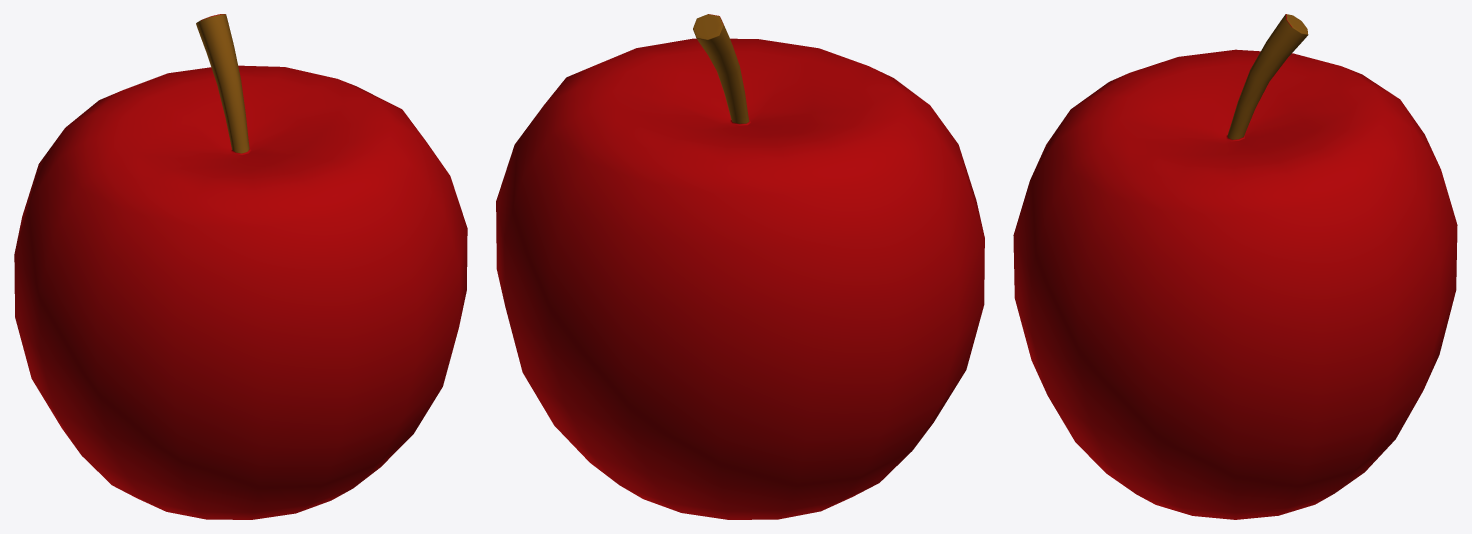
The model's file is Apple.glb.
3 renders of one model, left to right at view 1: azimuth 30°, elevation 25°; view 2: azimuth 150°, elevation 25°; view 3: azimuth 270°, elevation 25°, orthographic. The views are drawn at different scales.
Parts seen in each view (by area): view 1: apple_mesh; view 2: apple_mesh; view 3: apple_mesh.
Boxes of the visible parts, bbox=[...] form: apple_mesh: bbox=[14, 14, 467, 519]; apple_mesh: bbox=[496, 14, 984, 519]; apple_mesh: bbox=[1013, 14, 1457, 519].
Size of the model in its own units: 0.976 by 1.03 by 0.909.
